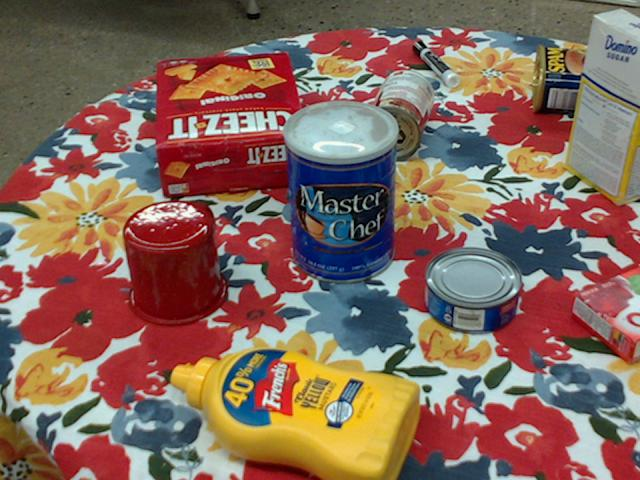cracker_box: (155, 52, 310, 194)
gelatin_box: (571, 266, 639, 363)
large_marker: (414, 39, 459, 85)
master_chef_can: (282, 99, 397, 283)
mug: (121, 199, 228, 325)
mustard_bottle: (171, 346, 422, 479)
potted_meat_can: (532, 41, 609, 112)
sugar_box: (563, 10, 639, 206)
tomato_soup_can: (362, 68, 433, 160)
tuna_fish_can: (426, 247, 523, 334)
